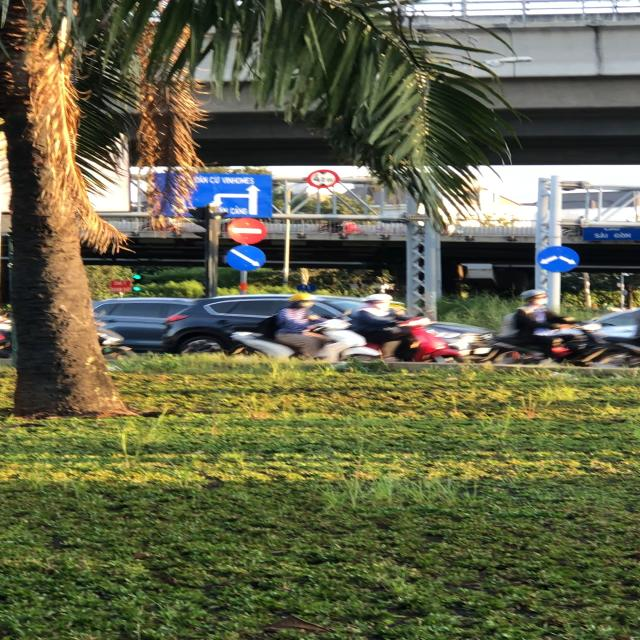Bien bao cam di nguoc chieu: (228, 216, 273, 244)
Bien bao han che chieu cao: (306, 166, 342, 188)
Bien bao huong phai di vong chuong ngai vat: (532, 244, 583, 274), (224, 244, 276, 273)
